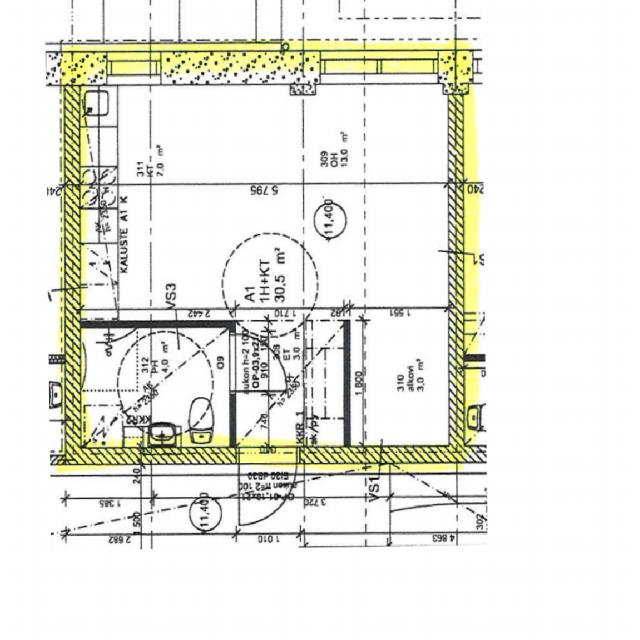door: (239, 448, 297, 528), (230, 334, 288, 392)
